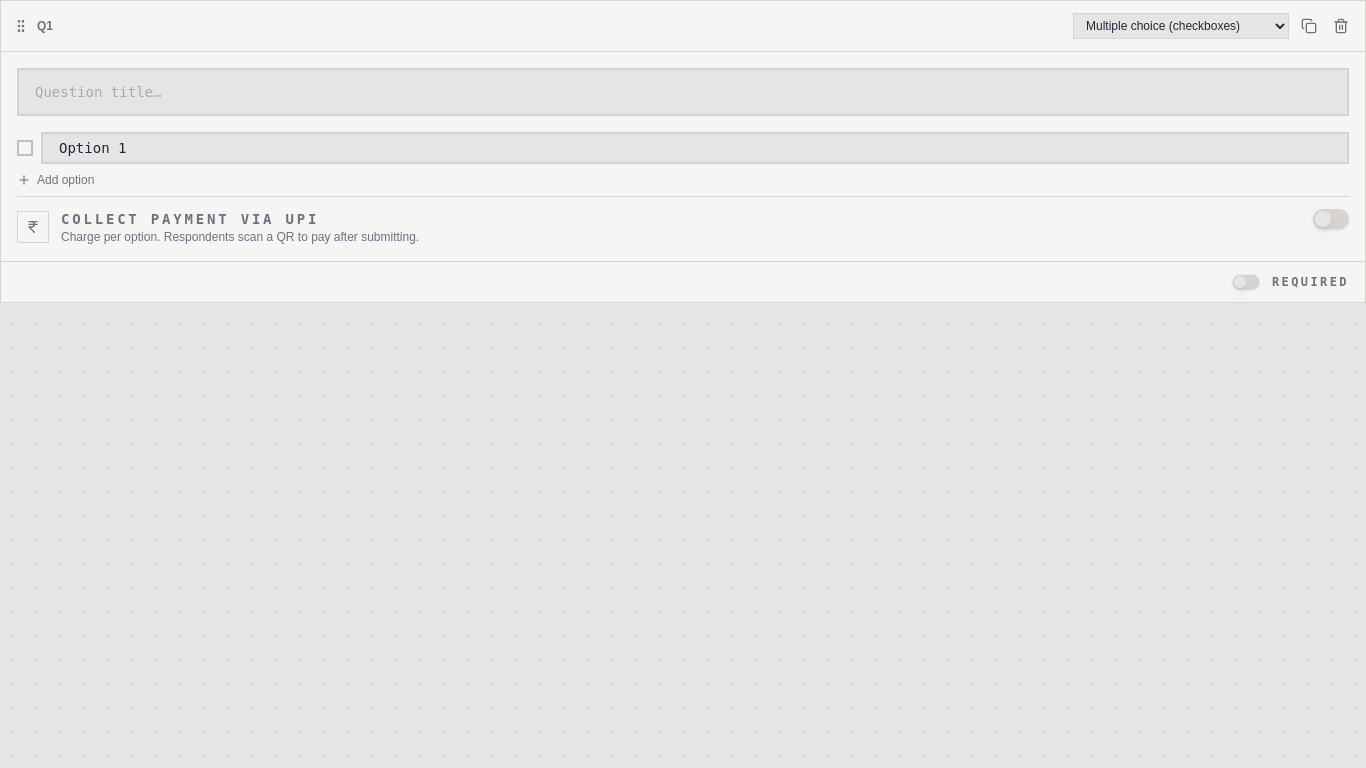
Test: FormQuestionEditor UPI payment › validates the UPI ID as you type and stores prices on options
The width and height of the screenshot is (1366, 768).
Click the switch named "collect payment via upi" in the row of "Collect payment via UPI". click: (1331, 219)
box: 1313,209 -> 1349,229
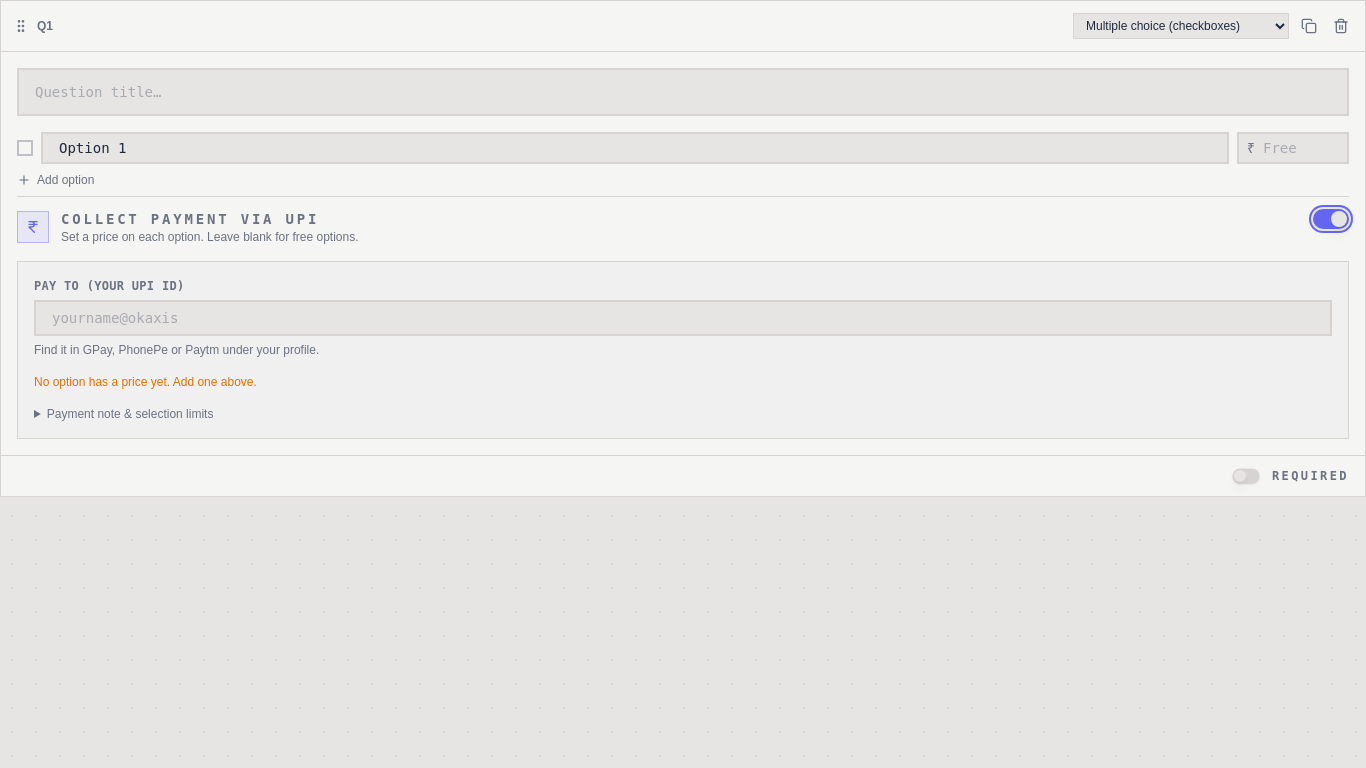
Type "bad-id" into the field with placeholder "yourname@okaxis". click: (683, 318)
box: 34,300 -> 1332,336
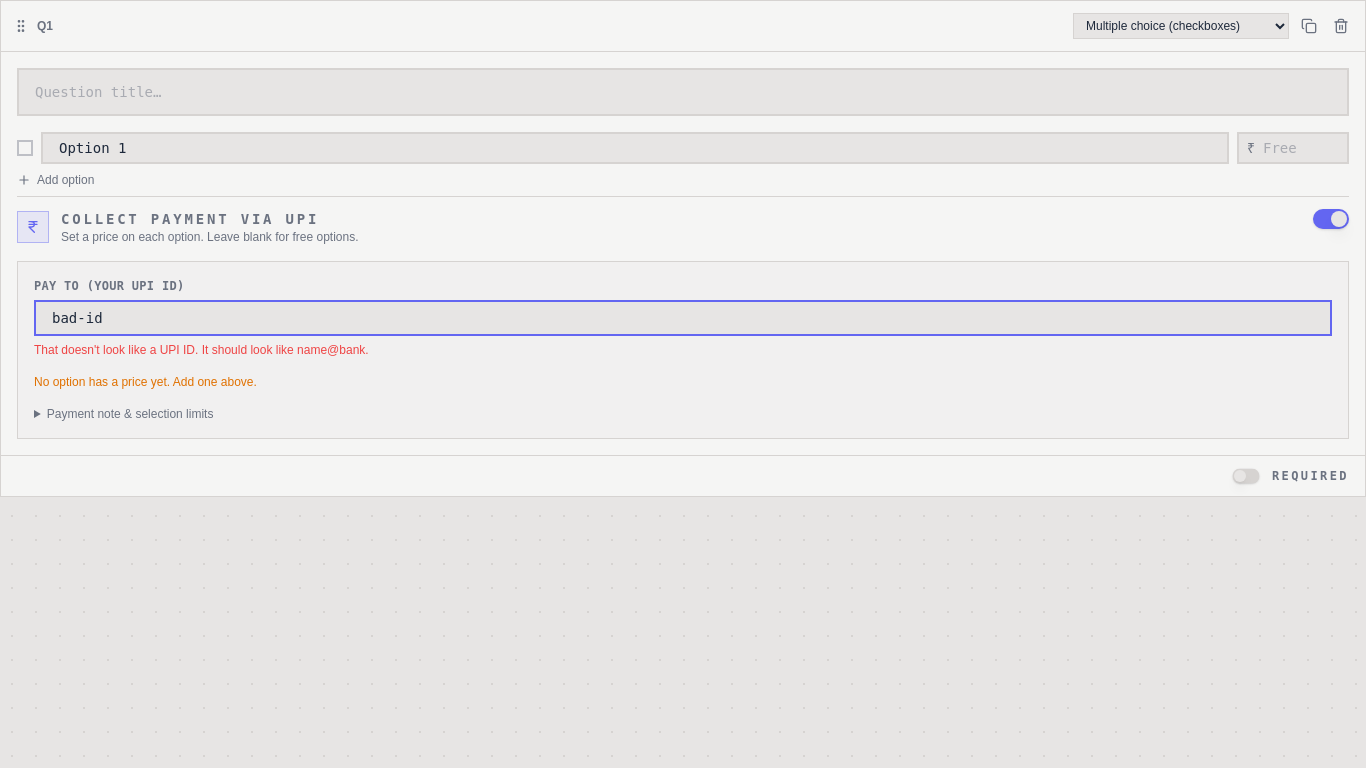
Expected: the text "doesn't look like a UPI ID" is shown, 34,343 -> 369,357
Replace the text in the field with placeholder "yourname@okaxis" with "host@okaxis". click: (683, 318)
box: 34,300 -> 1332,336
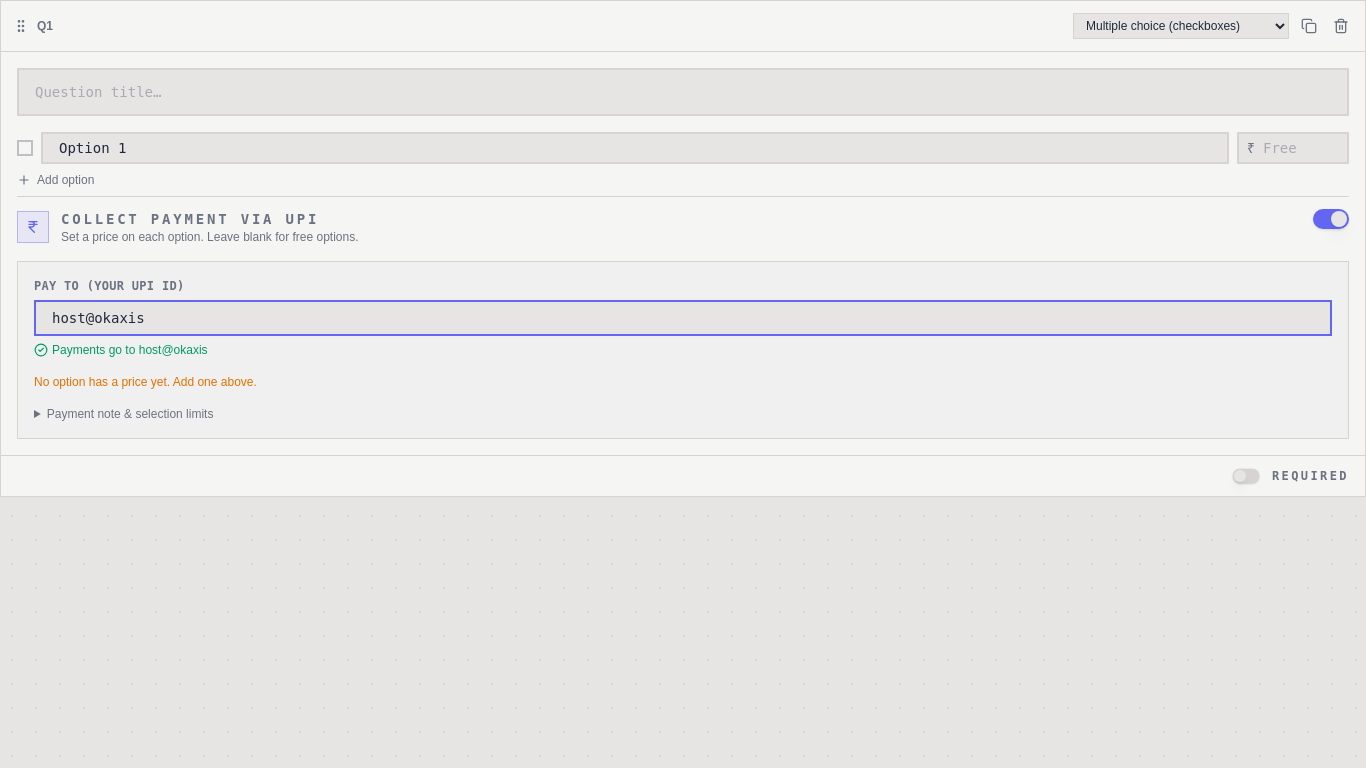
Expected: the text "Payments go to host@okaxis" is shown, 34,343 -> 208,357
Type "150" into the number field named "price for". click: (1293, 148)
box: 1237,132 -> 1349,164
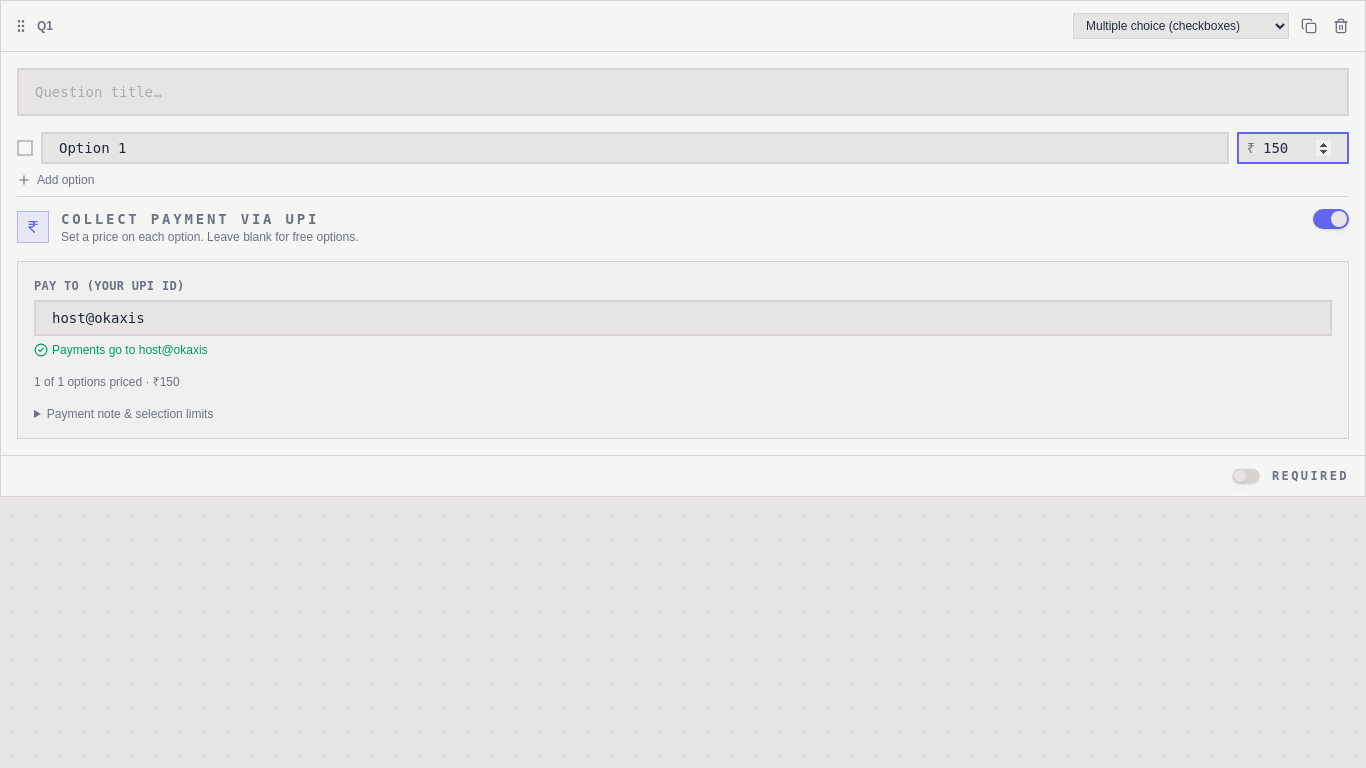
Expected: the text "1 of 1 options priced · ₹150" is shown, 34,375 -> 180,389
